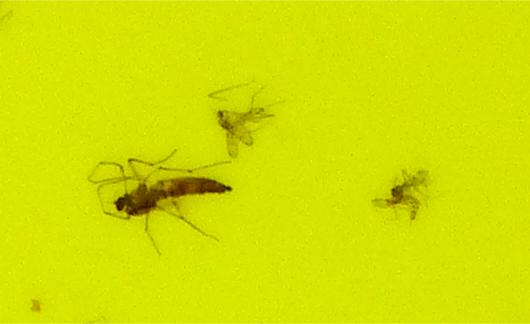Nematocera: (100, 158, 236, 224), (375, 174, 430, 219), (206, 100, 266, 139)
